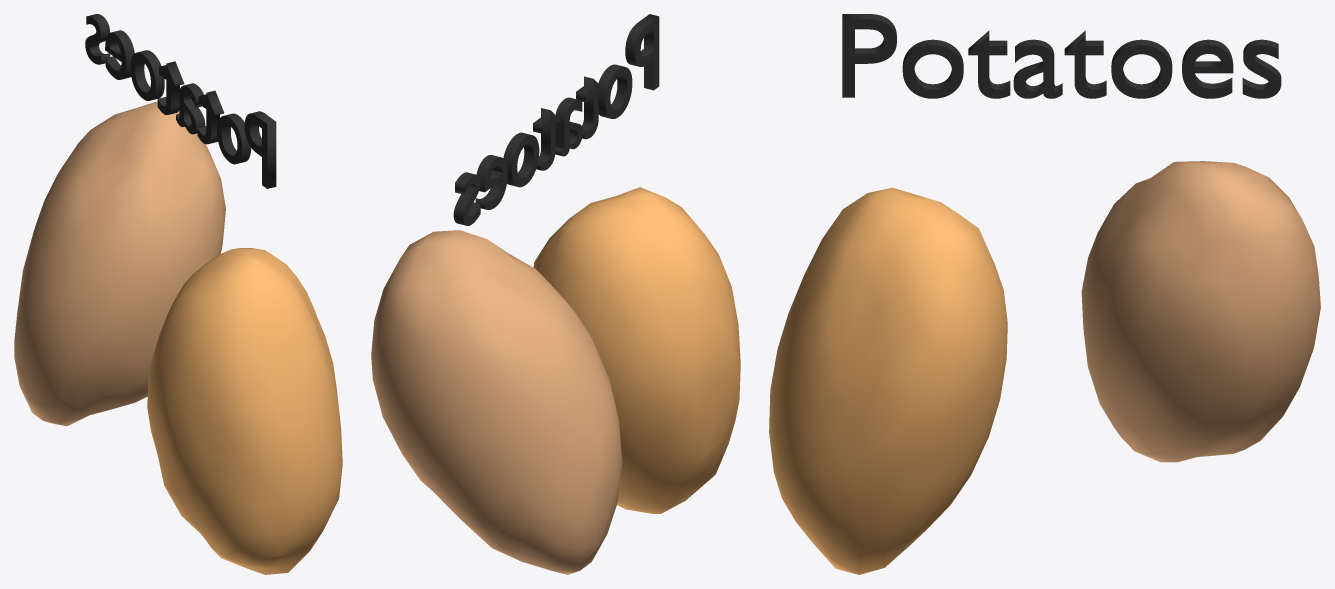
Rendered from Potatoes.gltf.
3 views of the same model, side by side, from view 1: azimuth 30°, elevation 25°; view 2: azimuth 150°, elevation 25°; view 3: azimuth 270°, elevation 25° (orthographic). The views are drawn at different scales.
Parts seen in each view (by area): view 1: Object, object 1, Text; view 2: object 1, Object, Text; view 3: Object, object 1, Text.
Boxes of the visible parts, bbox=[...] form: Object: bbox=[147, 248, 342, 574]; object 1: bbox=[14, 101, 225, 426]; Text: bbox=[85, 14, 276, 188]; object 1: bbox=[371, 230, 622, 574]; Object: bbox=[533, 187, 740, 513]; Text: bbox=[453, 14, 659, 225]; Object: bbox=[769, 187, 1007, 574]; object 1: bbox=[1081, 161, 1320, 462]; Text: bbox=[842, 14, 1281, 98].
Bounding box in the file's own units: 1.34 × 2.96 × 2.69.
